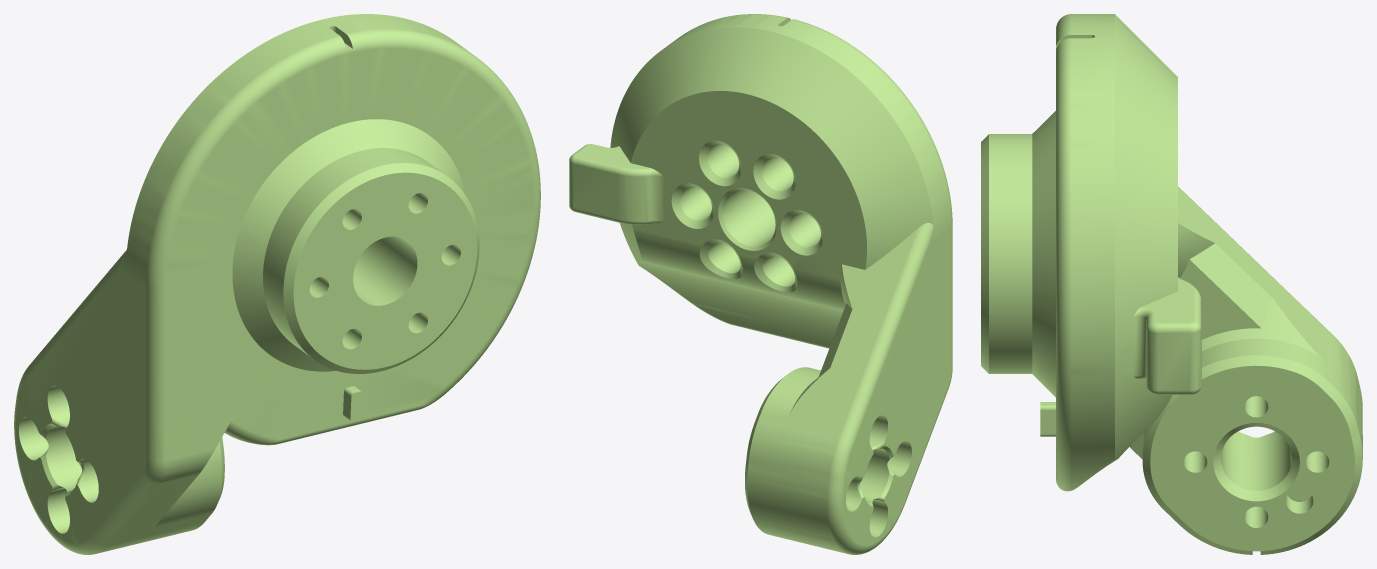
File: Main_Joint_1.dae
3 views of the same model, side by side, from view 1: azimuth 30°, elevation 25°; view 2: azimuth 150°, elevation 25°; view 3: azimuth 270°, elevation 25° (orthographic). The views are drawn at different scales.
Visible parts, largest first — view 1: Main_Joint_1; view 2: Main_Joint_1; view 3: Main_Joint_1.
Boxes of the visible parts, left/top/right/bottom form: Main_Joint_1: left=14, top=14, right=540, bottom=554; Main_Joint_1: left=569, top=14, right=952, bottom=554; Main_Joint_1: left=981, top=14, right=1362, bottom=554.
Size of the model in its own units: 0.0629 by 0.0485 by 0.079.
